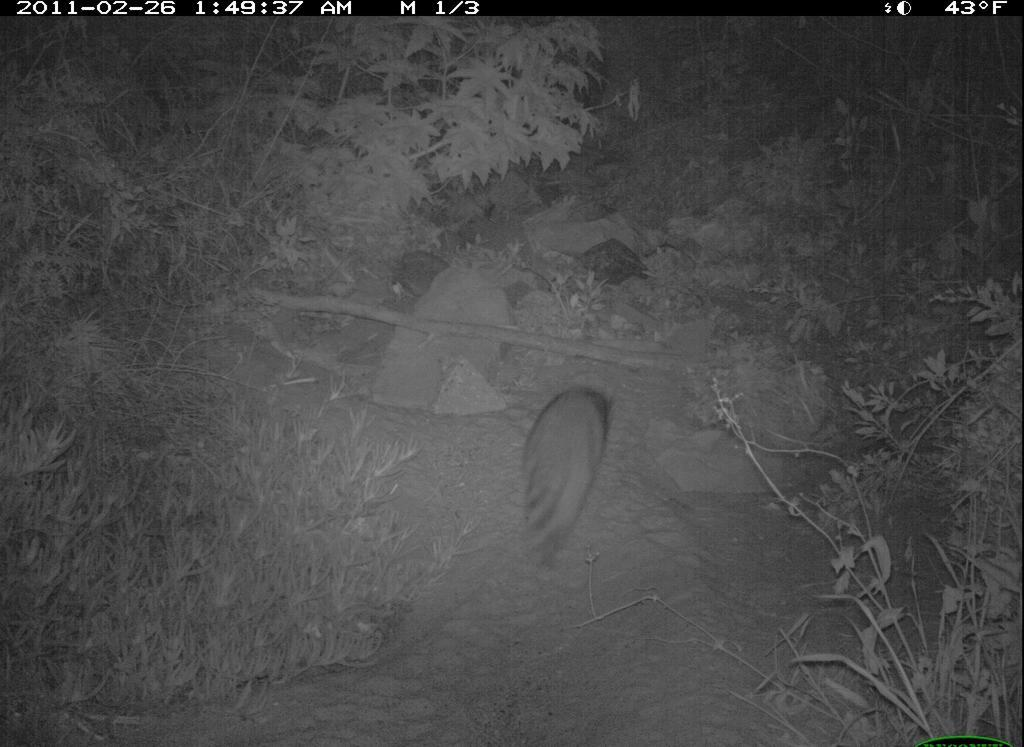raccoon: (514, 370, 619, 565)
